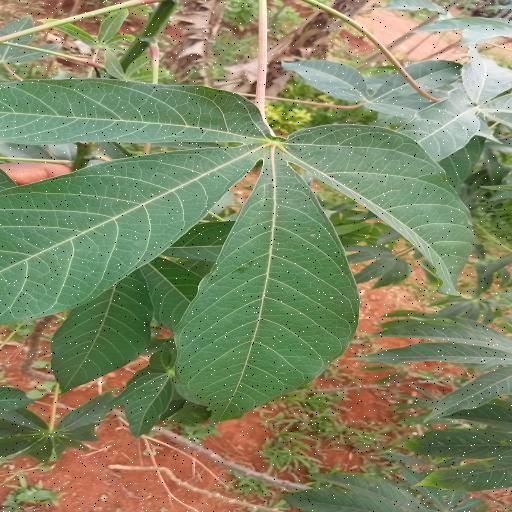Cassava_Healthy: (7, 72, 512, 430)
